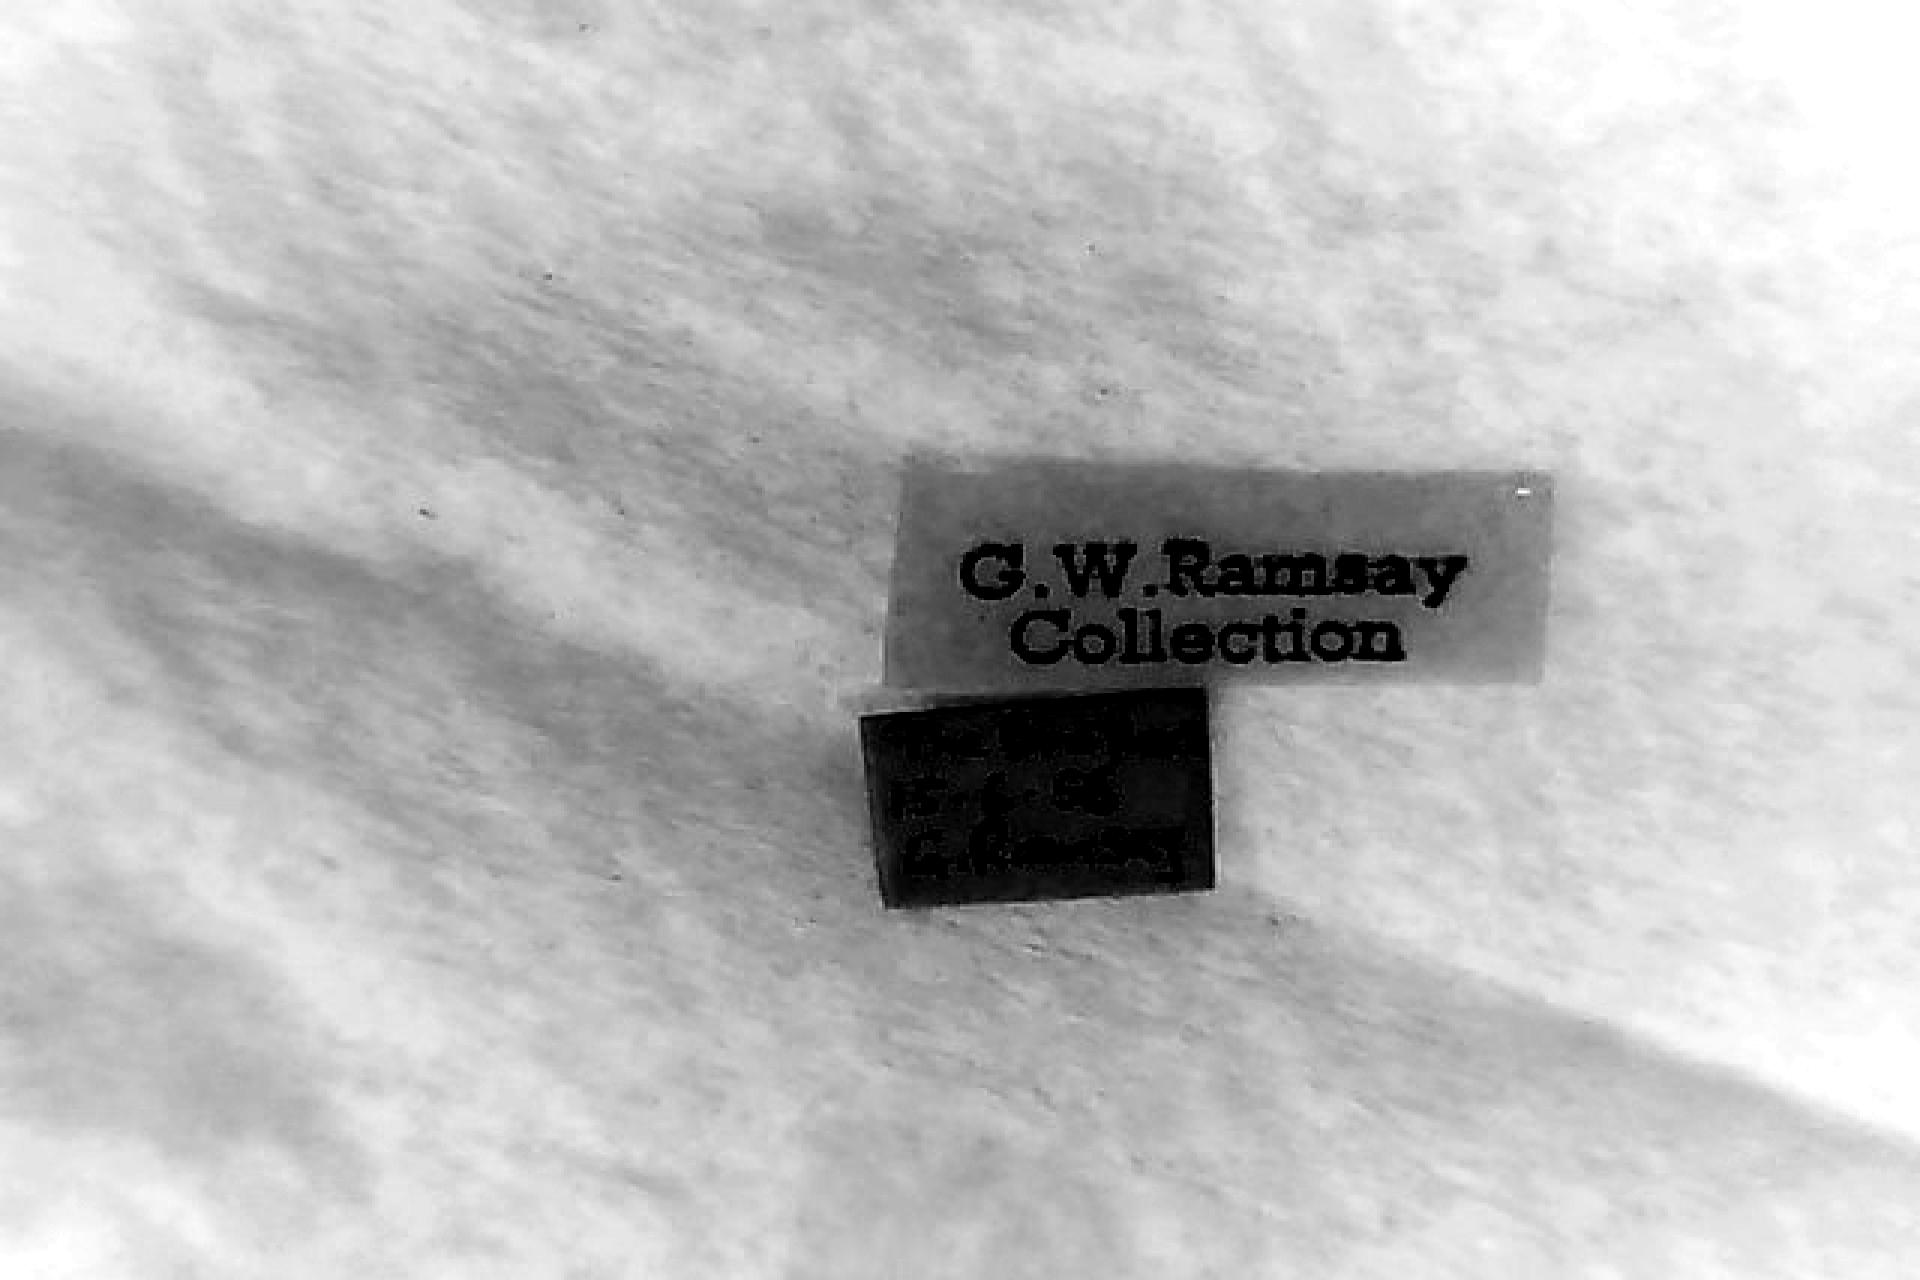hand_label: (864, 691, 1210, 906)
typed_label: (886, 473, 1549, 687)
